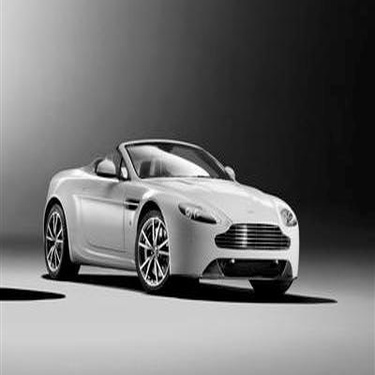car: (29, 129, 306, 298)
